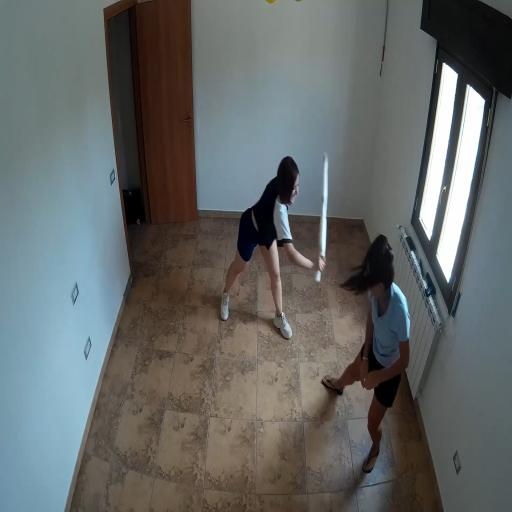violencia: (214, 104, 416, 486)
